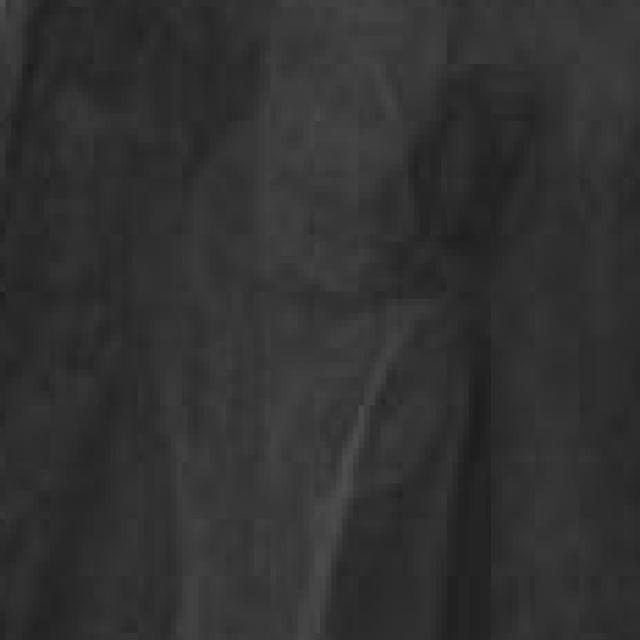fracture: (7, 1, 640, 639)
